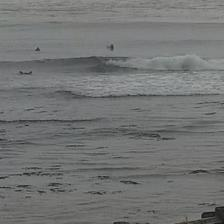surfer: (19, 71, 32, 75), (109, 43, 114, 50), (35, 46, 41, 51)
